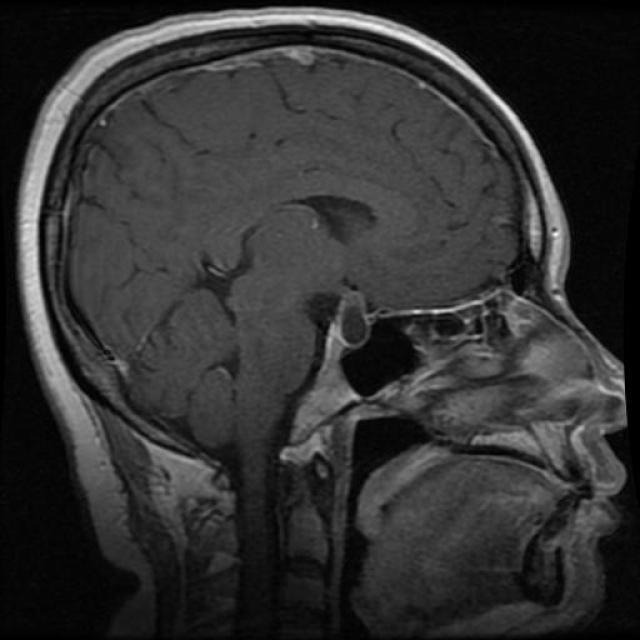pituitary: (297, 268, 385, 372)
